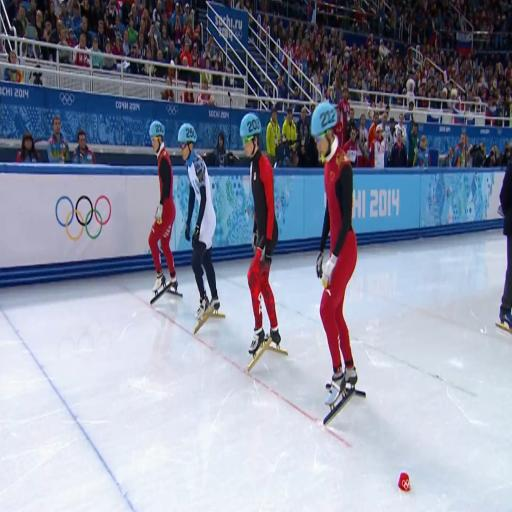Skater: (311, 102, 364, 423), (240, 113, 287, 370), (178, 123, 223, 331), (149, 121, 180, 303)
